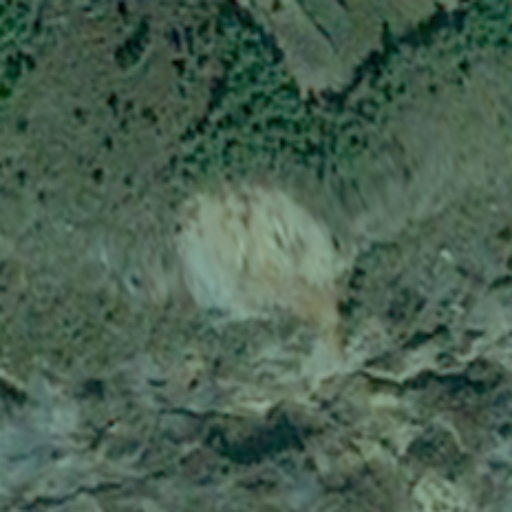landslide: (183, 187, 344, 318)
